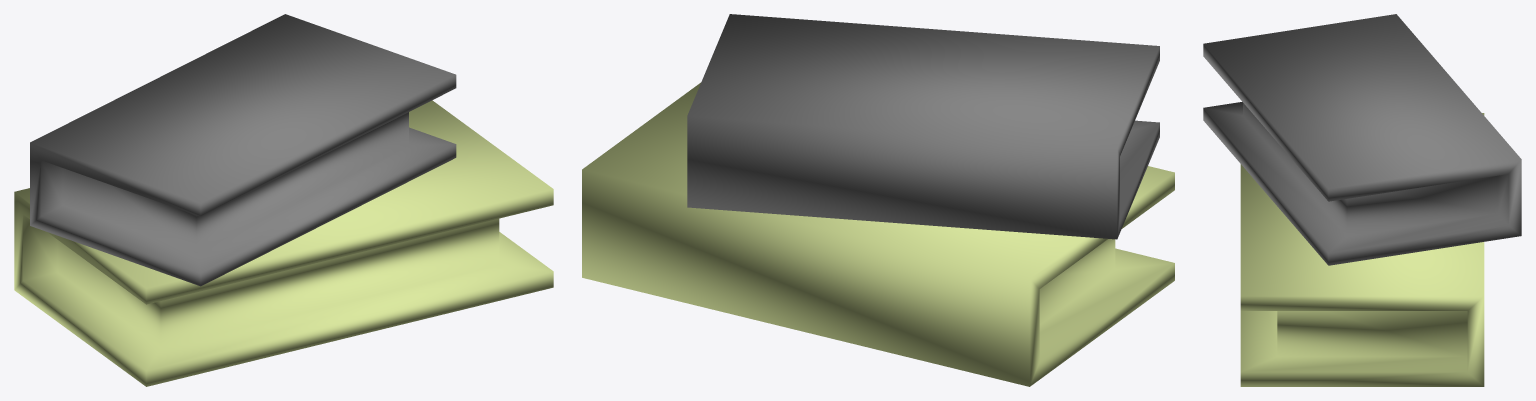
Rendered from book.fbx.
3 views of the same model, side by side, from view 1: azimuth 30°, elevation 25°; view 2: azimuth 150°, elevation 25°; view 3: azimuth 270°, elevation 25° (orthographic). The views are drawn at different scales.
Visible parts, largest first — view 1: Box040, Box039; view 2: Box040, Box039; view 3: Box040, Box039.
Boxes of the visible parts, x1,y1,x2,y2 form: Box040: (30,14,456,286); Box039: (14,100,553,386); Box040: (687,14,1159,239); Box039: (582,82,1174,386); Box040: (1203,14,1521,265); Box039: (1240,113,1484,386).
Bounding box in the file's own units: 8.08 × 3.35 × 5.51.
